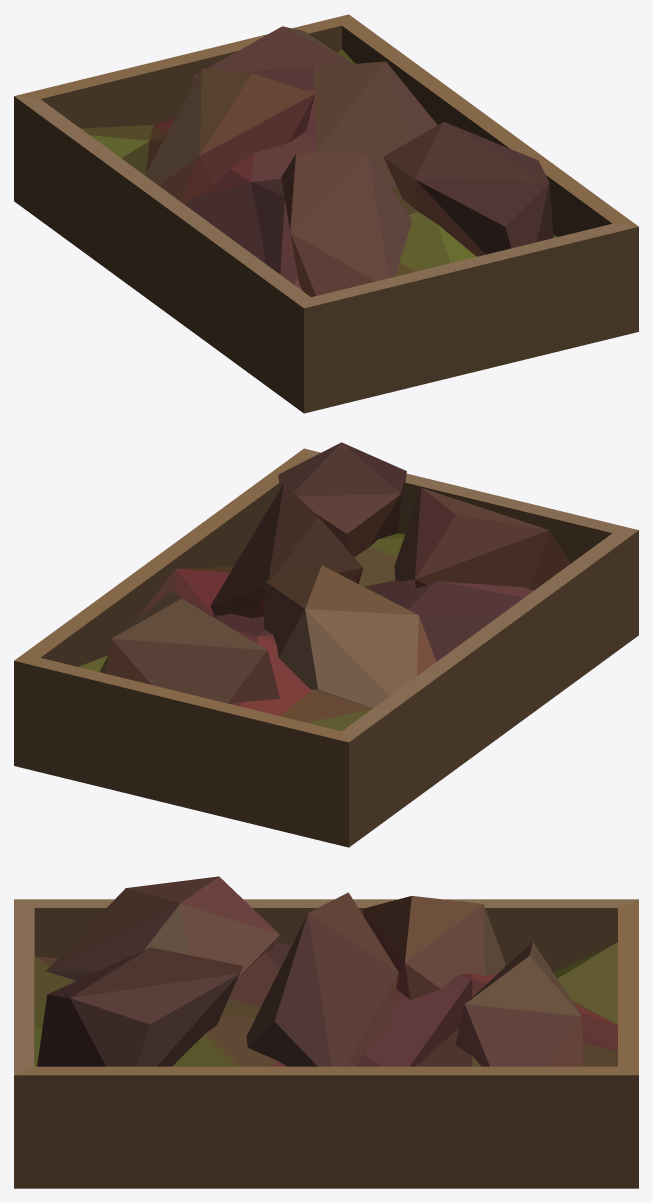
The model's file is Prop_FoodBoxA.fbx.
The picture shows the model from 3 angles, top to bottom: view 1: azimuth 30°, elevation 25°; view 2: azimuth 150°, elevation 25°; view 3: azimuth 270°, elevation 25°; orthographic projection. The views are drawn at different scales.
Visible parts, largest first — view 1: Prop_FoodBoxA; view 2: Prop_FoodBoxA; view 3: Prop_FoodBoxA.
Part boxes in pixels (bbox=[...]): Prop_FoodBoxA: bbox=[14, 14, 638, 413]; Prop_FoodBoxA: bbox=[14, 442, 638, 847]; Prop_FoodBoxA: bbox=[14, 876, 638, 1188].
Bounding box in the file's own units: 50 × 28.38 × 75.
